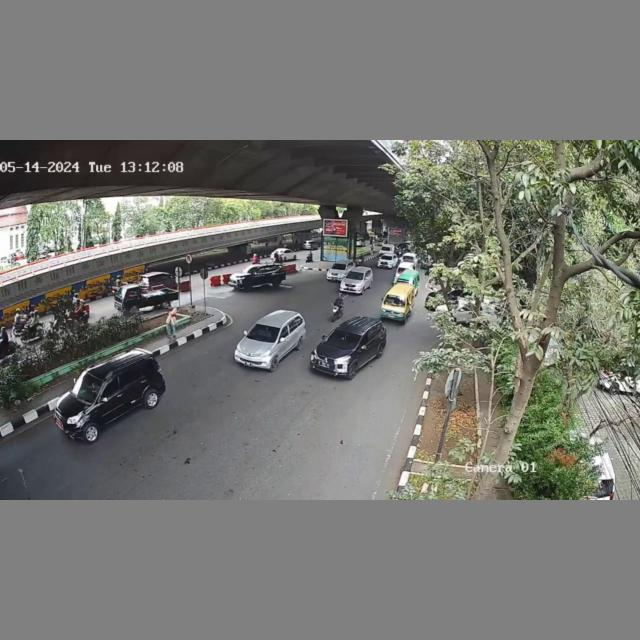windshield: (67, 372, 105, 400), (327, 327, 365, 349), (245, 324, 282, 344)
